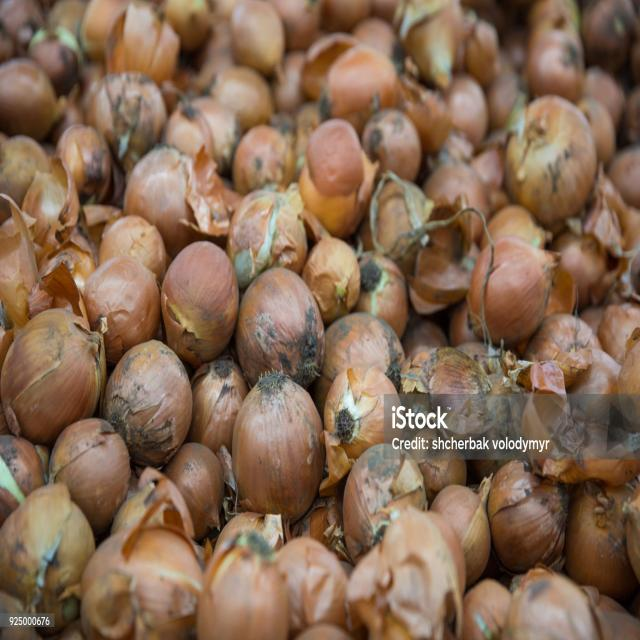rotten: (81, 511, 205, 639), (231, 370, 325, 522), (1, 310, 106, 446), (1, 482, 95, 632), (502, 94, 594, 226), (100, 339, 192, 468), (1, 198, 88, 333), (234, 268, 324, 389), (467, 234, 559, 350), (341, 442, 427, 565), (196, 530, 290, 639), (160, 241, 240, 367), (49, 417, 132, 536), (488, 460, 568, 576), (81, 254, 162, 365), (298, 117, 374, 235), (122, 146, 202, 258), (564, 479, 638, 599), (320, 360, 400, 469), (226, 185, 309, 289), (269, 534, 351, 639), (498, 563, 604, 639), (89, 71, 166, 173), (363, 168, 434, 272), (428, 480, 492, 590), (423, 347, 495, 439), (166, 90, 241, 177), (160, 442, 225, 541), (113, 469, 196, 545), (104, 3, 180, 86), (421, 161, 492, 249), (187, 358, 250, 456), (560, 350, 626, 441), (398, 1, 463, 89), (20, 157, 81, 250), (592, 178, 640, 294), (348, 249, 409, 336), (55, 123, 115, 210), (202, 66, 270, 141), (301, 239, 359, 326), (0, 59, 61, 141), (96, 215, 166, 285), (525, 24, 585, 104), (360, 106, 423, 182), (395, 76, 453, 157), (548, 229, 607, 308), (231, 124, 293, 199), (522, 310, 598, 371), (345, 546, 393, 640), (299, 32, 361, 103), (0, 433, 46, 526), (228, 0, 284, 76), (80, 568, 139, 640), (475, 384, 532, 458), (0, 133, 52, 210), (579, 0, 635, 71), (264, 108, 316, 184), (27, 26, 82, 97), (412, 430, 465, 500), (209, 510, 283, 559), (443, 73, 489, 147), (459, 579, 512, 639), (484, 204, 550, 252), (582, 67, 624, 140), (79, 0, 127, 61), (485, 63, 525, 135), (461, 18, 501, 89), (596, 300, 640, 364), (161, 0, 212, 52), (449, 339, 514, 378), (606, 144, 640, 217), (568, 455, 639, 489), (0, 0, 42, 49), (400, 318, 445, 362), (448, 298, 487, 348)
